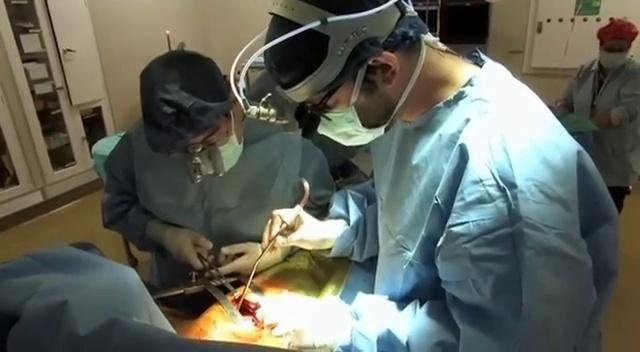doctor: (245, 0, 622, 351), (90, 44, 336, 291)
others: (552, 16, 639, 215)
